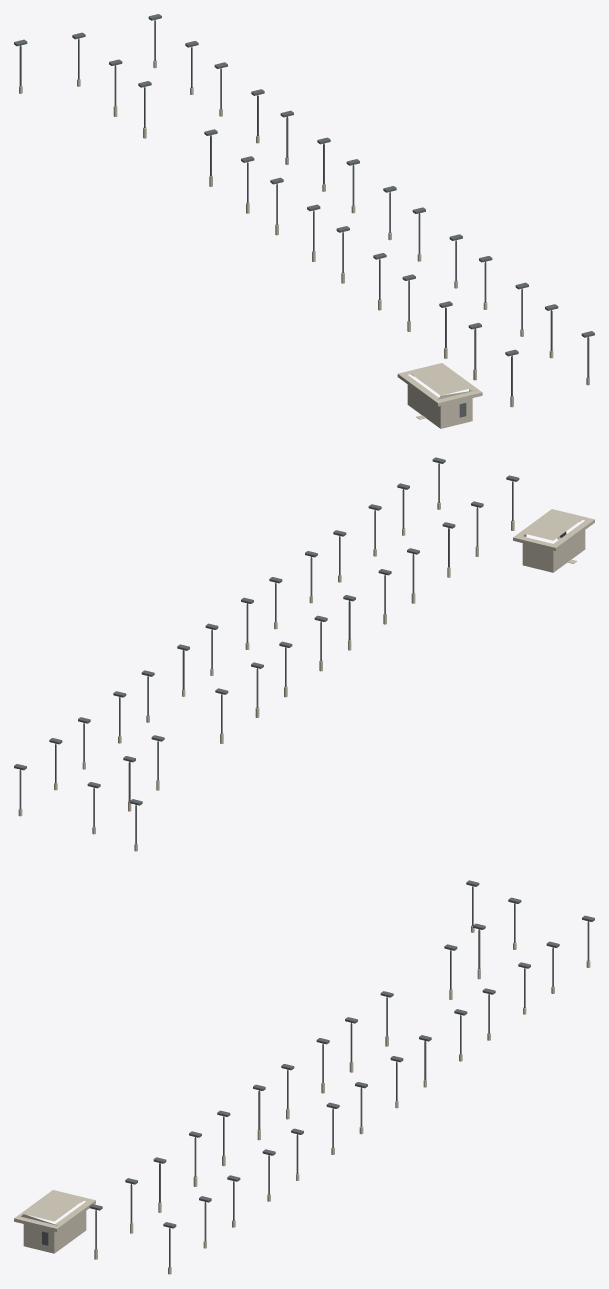
The picture shows the model from 3 angles, top to bottom: view 1: azimuth 30°, elevation 25°; view 2: azimuth 150°, elevation 25°; view 3: azimuth 330°, elevation 25°; orthographic projection. The views are drawn at different scales.
Parts seen in each view (by area): view 1: buildings_s_-4_4_Dark_Metal, buildings_s_-4_4_Warm_Limestone; view 2: buildings_s_-4_4_Dark_Metal, buildings_s_-4_4_Warm_Limestone; view 3: buildings_s_-4_4_Dark_Metal, buildings_s_-4_4_Warm_Limestone.
Part boxes in pixels (<box>): buildings_s_-4_4_Dark_Metal: <box>14,14,594,417</box>; buildings_s_-4_4_Warm_Limestone: <box>19,60,589,428</box>; buildings_s_-4_4_Dark_Metal: <box>14,457,566,844</box>; buildings_s_-4_4_Warm_Limestone: <box>18,502,594,851</box>; buildings_s_-4_4_Dark_Metal: <box>42,880,594,1267</box>; buildings_s_-4_4_Warm_Limestone: <box>14,925,590,1274</box>.
Size of the model in its own units: 25.35 by 8.68 by 122.
